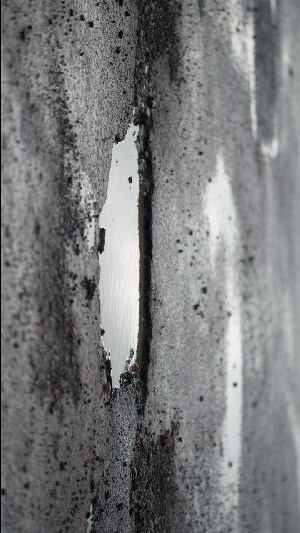pothole: (96, 105, 158, 402)
